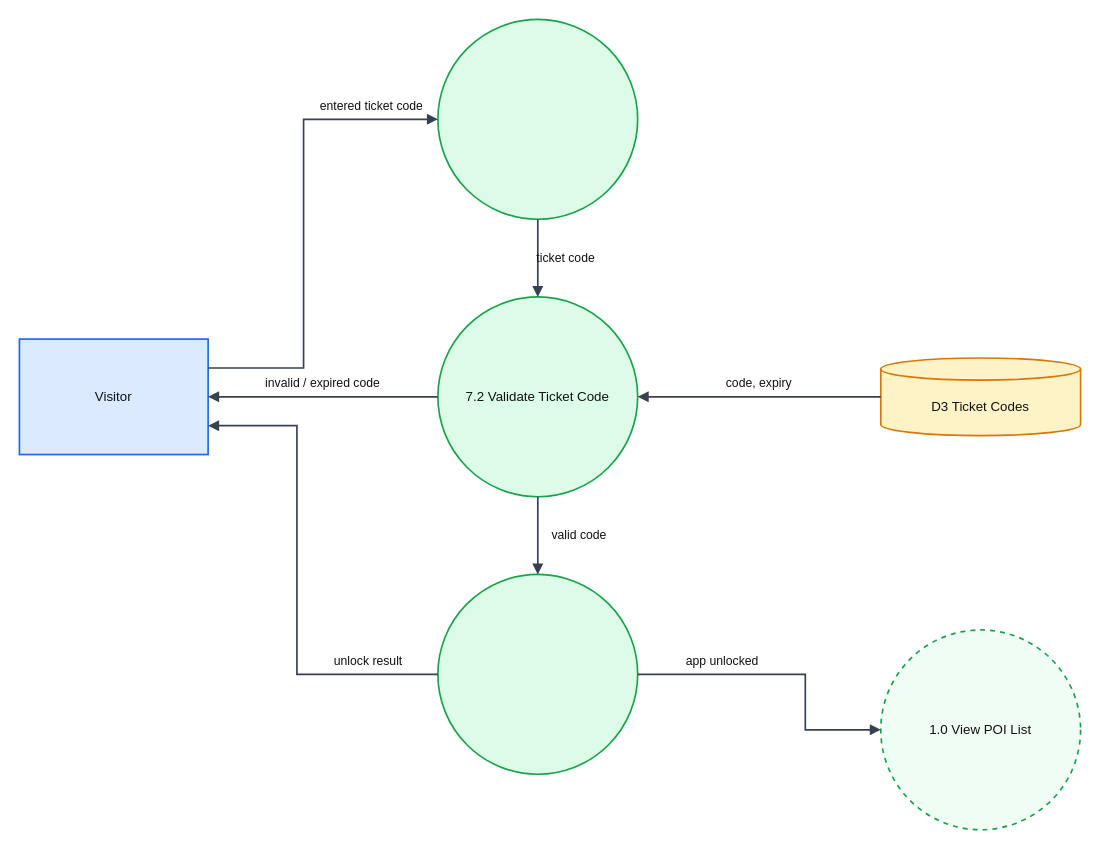
Some shapes in this 1101 by 850 pixel diagram are drawn without their labels. The centre of each missing label's shape, as x and y in pixels:
"7.1 Receive Ticket Code" belongs at pixel 537 119.
"7.3 Save Unlock State" belongs at pixel 537 674.
